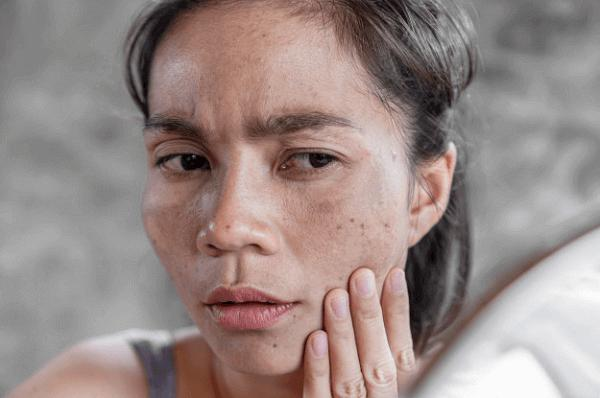Dark-Spots: (284, 192, 403, 271), (139, 194, 220, 273)
